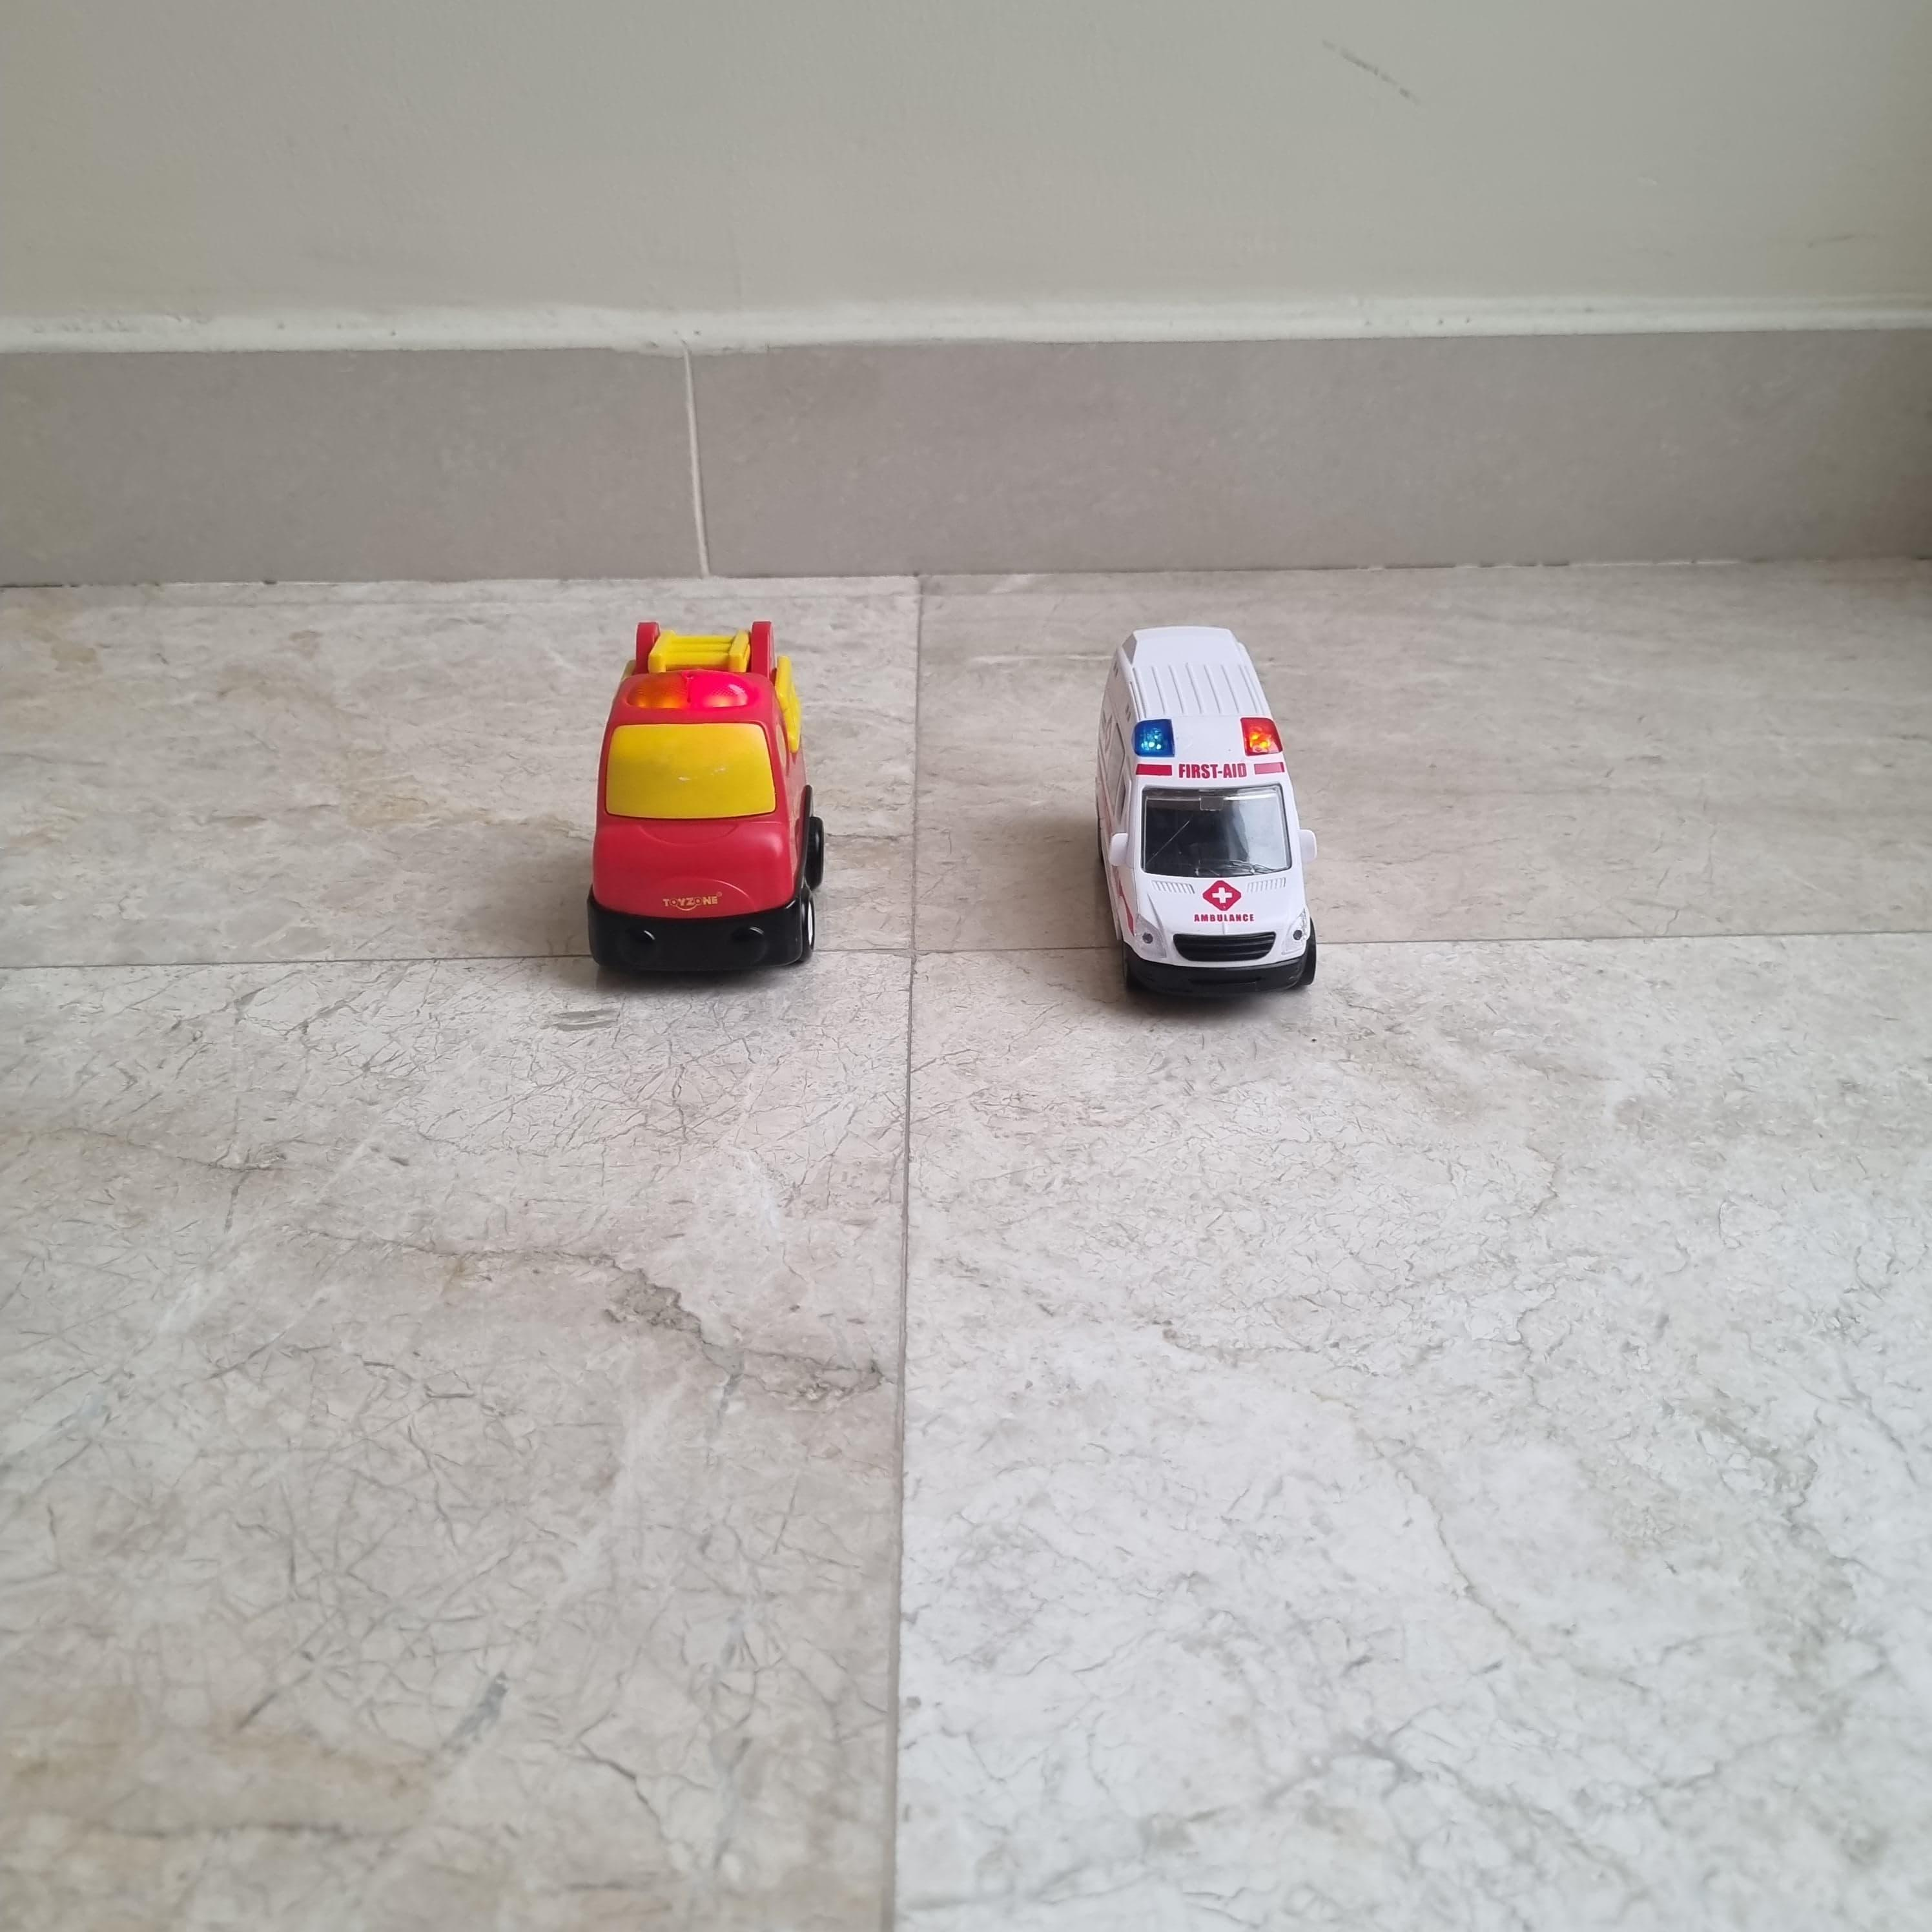ambulance_on: (1093, 626, 1318, 1000)
firetruck_on: (586, 619, 823, 973)
